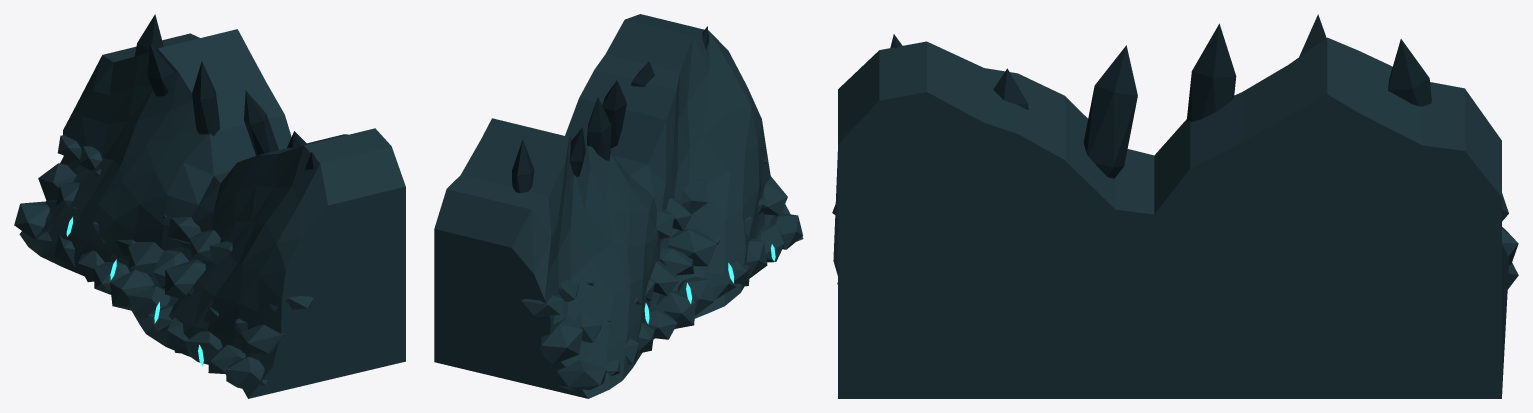
File: distant_cliff_wall.glb
The picture shows the model from 3 angles, left to right: view 1: azimuth 30°, elevation 25°; view 2: azimuth 150°, elevation 25°; view 3: azimuth 270°, elevation 25°; orthographic projection. The views are drawn at different scales.
Parts seen in each view (by area): view 1: distant_cliff_wall; view 2: distant_cliff_wall; view 3: distant_cliff_wall.
Boxes of the visible parts, x1,y1,x2,y2 form: distant_cliff_wall: [14, 14, 405, 398]; distant_cliff_wall: [434, 14, 803, 398]; distant_cliff_wall: [832, 14, 1518, 398].
Bounding box in the file's own units: 129 × 168 × 313.
3 materials, 3 textured.
